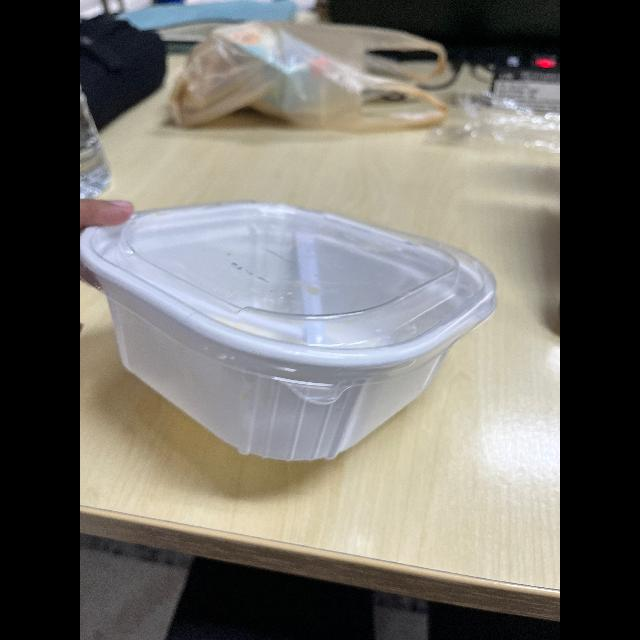plastic_box: (83, 170, 500, 460)
